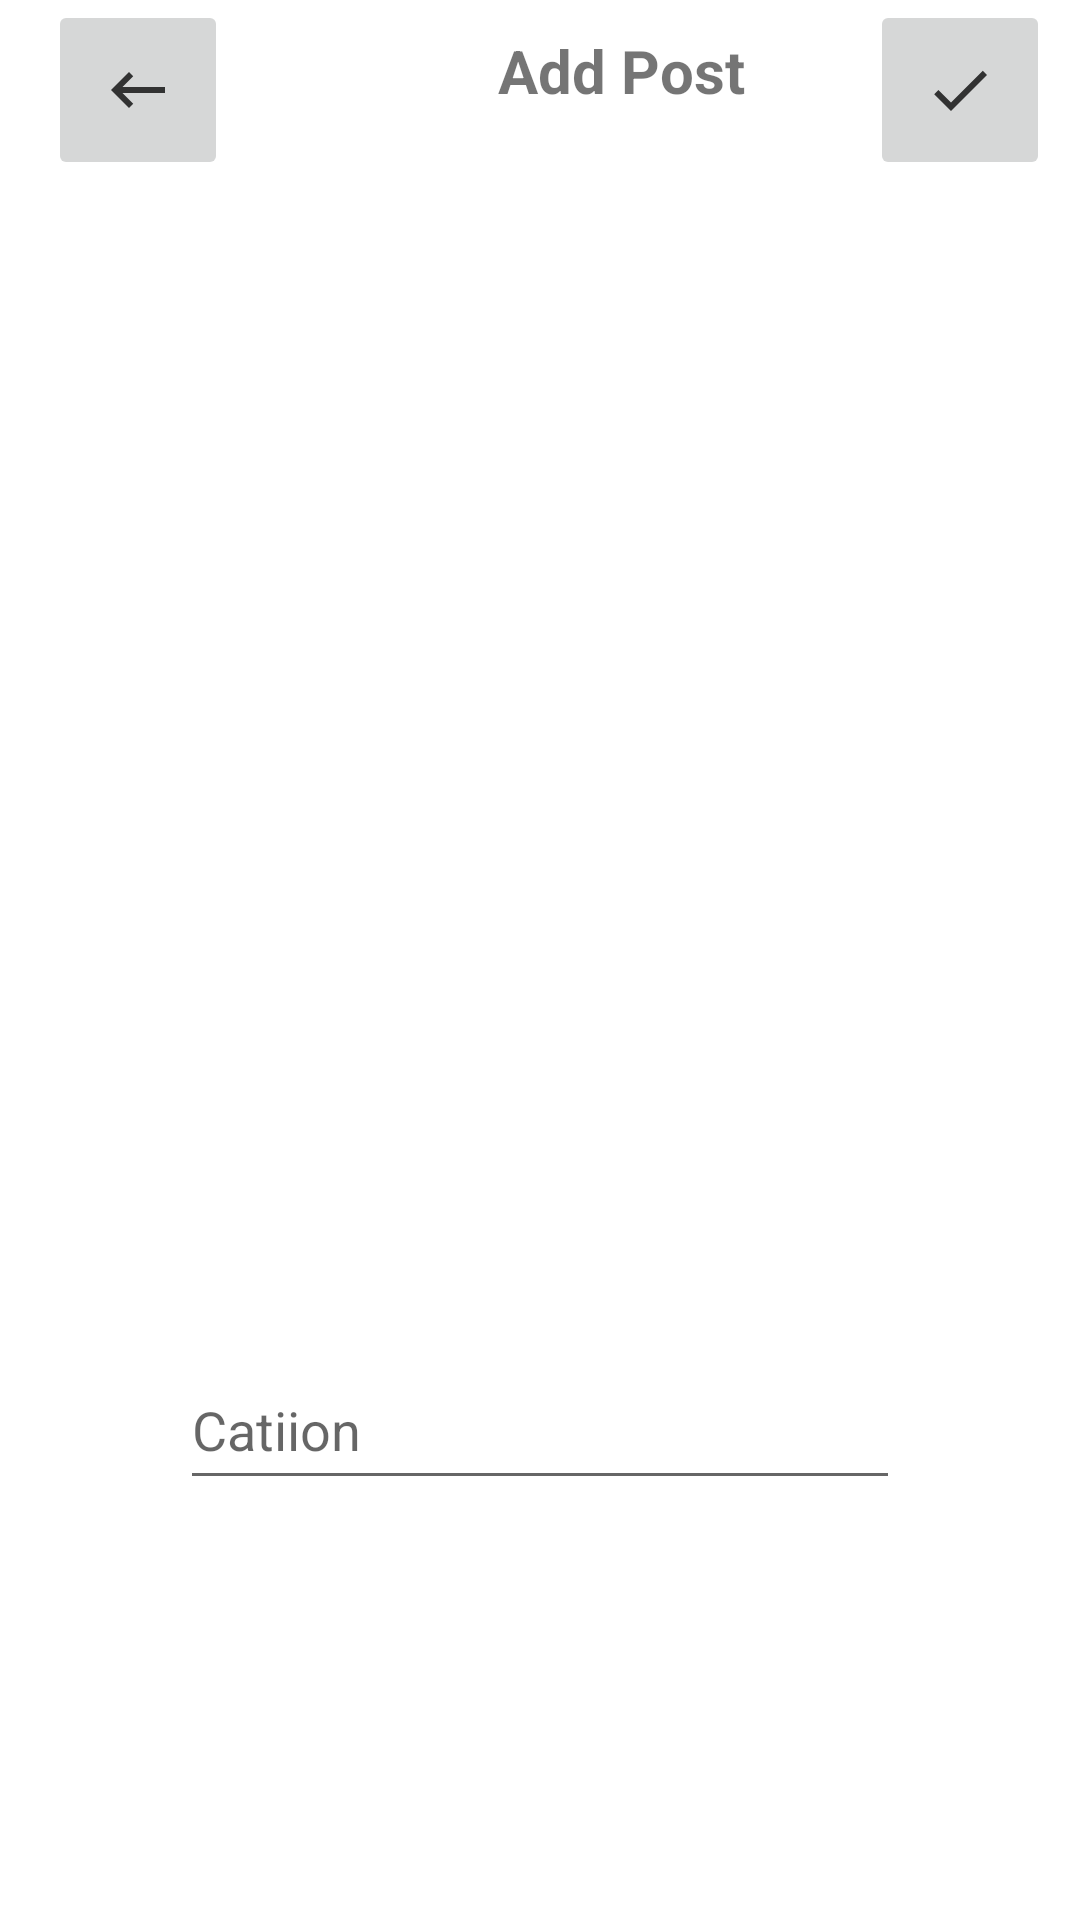

Locate icon controls on the screen. Image size 1080*1920, boxes as (x1, y1, x2, y2).
back: (60, 18, 216, 162)
done: (882, 18, 1038, 162)
